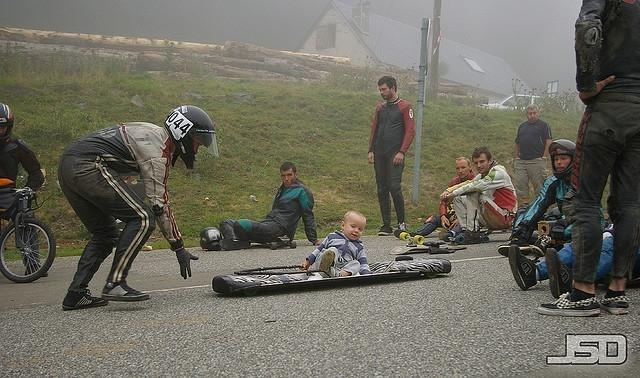bicycle: (1, 187, 56, 284)
car: (483, 92, 559, 112)
